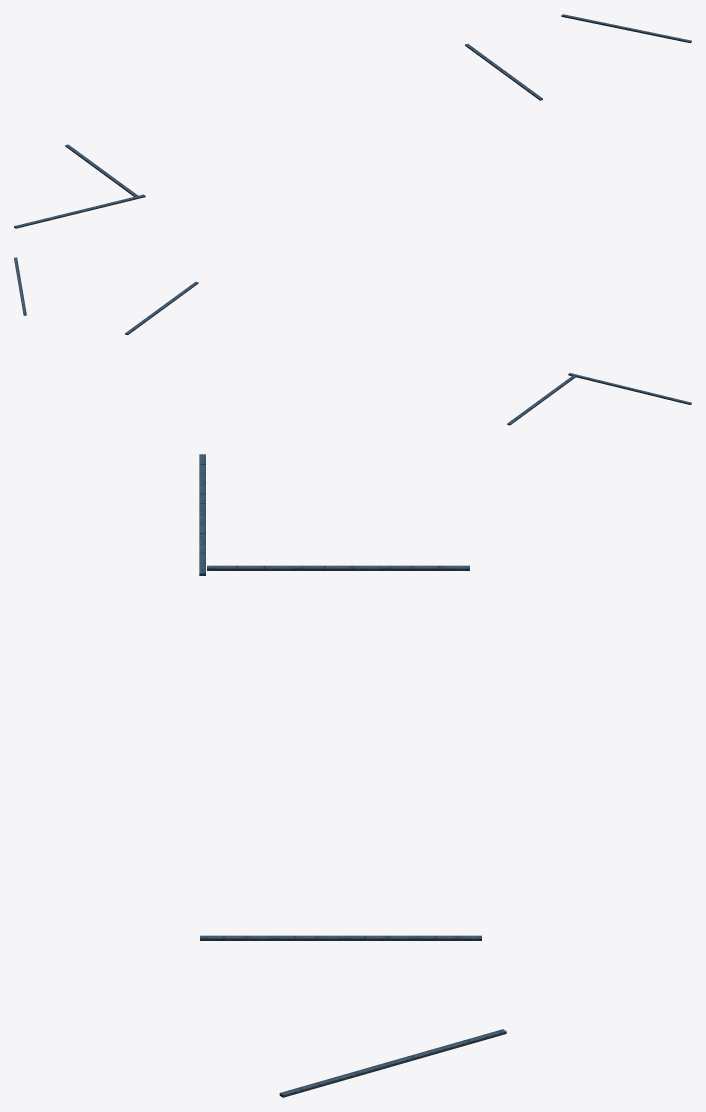
The model's file is xiaowujian_group9.fbx.
3 renders of one model, top to bottom at view 1: azimuth 30°, elevation 25°; view 2: azimuth 150°, elevation 25°; view 3: azimuth 270°, elevation 25°, orthographic. The views are drawn at different scales.
Visible parts, largest first — view 1: xiaowujian_group9; view 2: xiaowujian_group9; view 3: xiaowujian_group9.
Part boxes in pixels (box(x1,y1,x2,y2)): xiaowujian_group9: box(14, 14, 691, 228); xiaowujian_group9: box(14, 257, 691, 425); xiaowujian_group9: box(199, 454, 506, 1097).
Bounding box in the file's own units: 7791 × 15.48 × 1578.
Materials: 1 (1 with a texture image).
